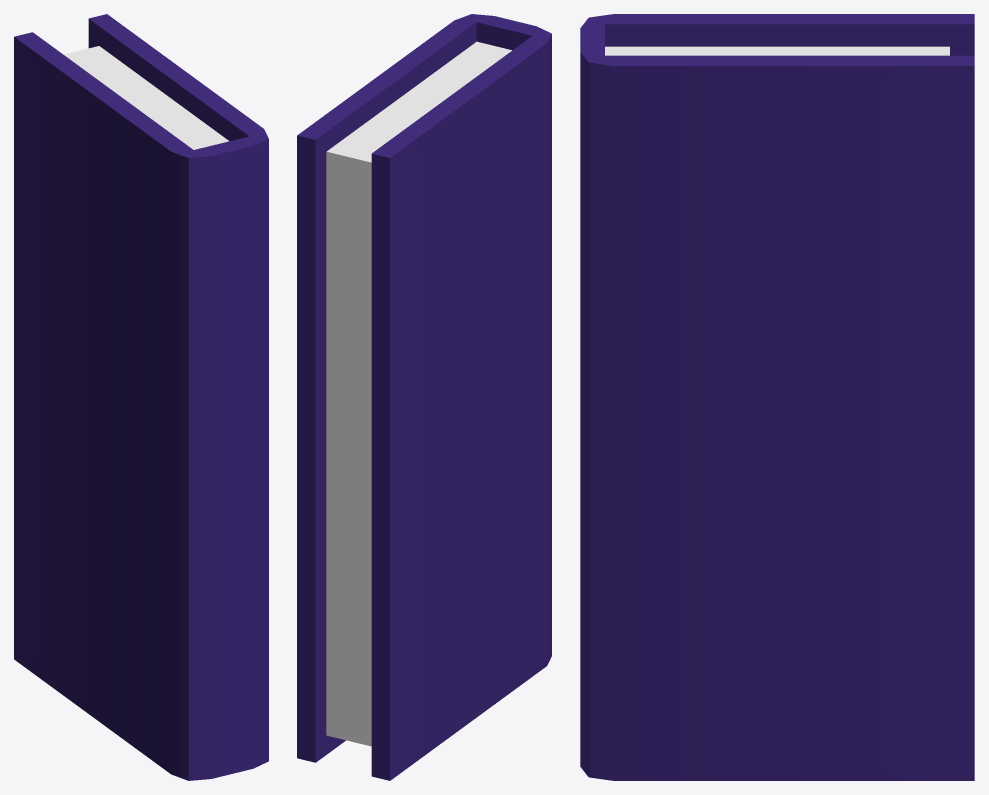
File: BOOK - PURPLE.fbx
The picture shows the model from 3 angles, left to right: view 1: azimuth 30°, elevation 25°; view 2: azimuth 150°, elevation 25°; view 3: azimuth 270°, elevation 25°; orthographic projection. The views are drawn at different scales.
Parts seen in each view (by area): view 1: Box001, Object; view 2: Box001, Object; view 3: Box001, Object.
Part boxes in pixels (bbox=[...]): Box001: bbox=[14, 14, 268, 780]; Object: bbox=[64, 46, 228, 149]; Box001: bbox=[297, 14, 551, 780]; Object: bbox=[326, 41, 511, 746]; Box001: bbox=[580, 14, 974, 780]; Object: bbox=[605, 46, 949, 55].
Size of the model in its own units: 5 by 32 by 16.
